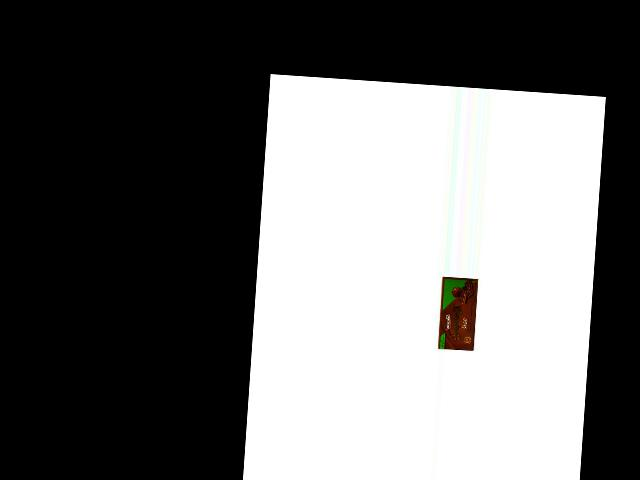chocolate: (434, 275, 479, 353)
